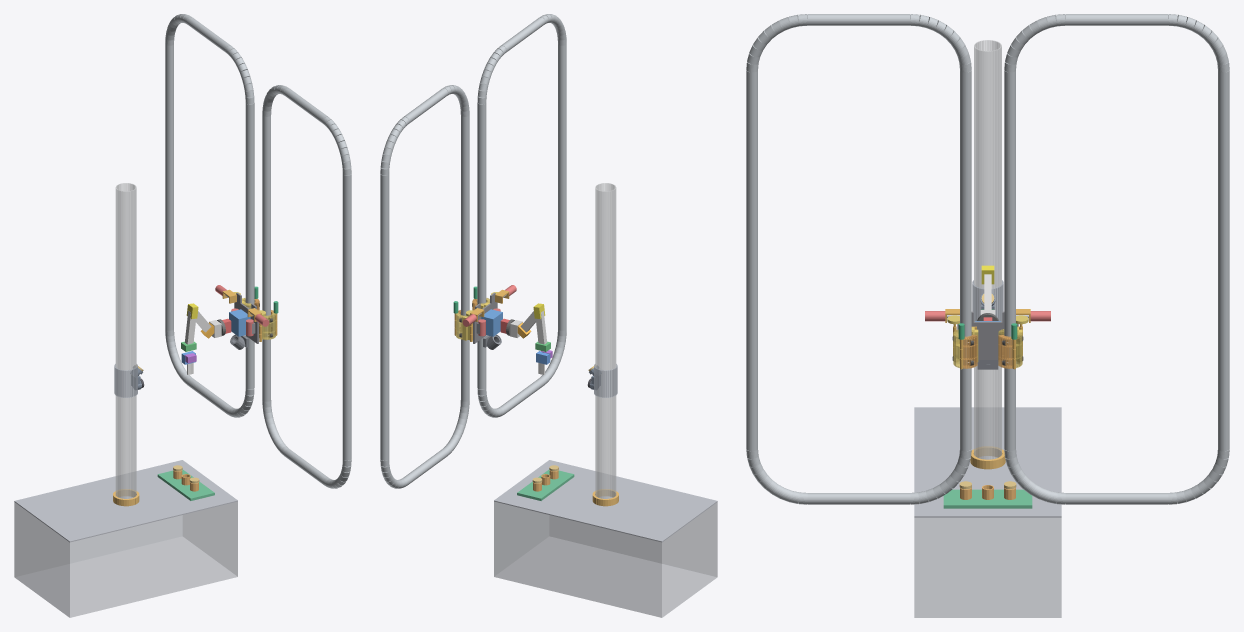
Rendered from transplant-seedling-step4-seat-v4.glb.
3 renders of one model, left to right at view 1: azimuth 30°, elevation 25°; view 2: azimuth 150°, elevation 25°; view 3: azimuth 270°, elevation 25°, orthographic. The views are drawn at different scales.
Bounding box in the file's own units: 0.94 × 1.9 × 1.31.
